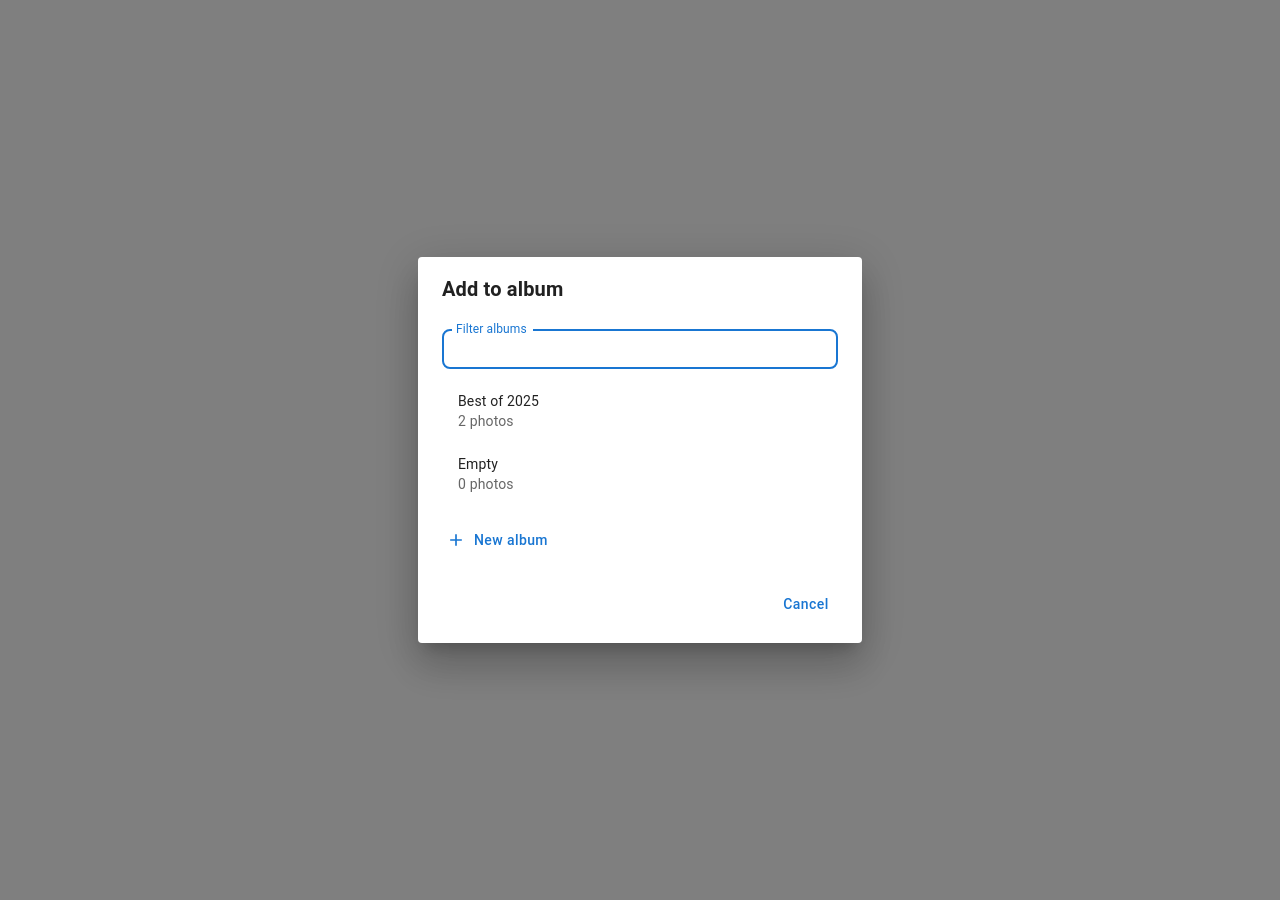
Test: AlbumPicker › creates an album and adds to it in one step
Click the button "New album".
click(499, 540)  # box [442,522,556,558]
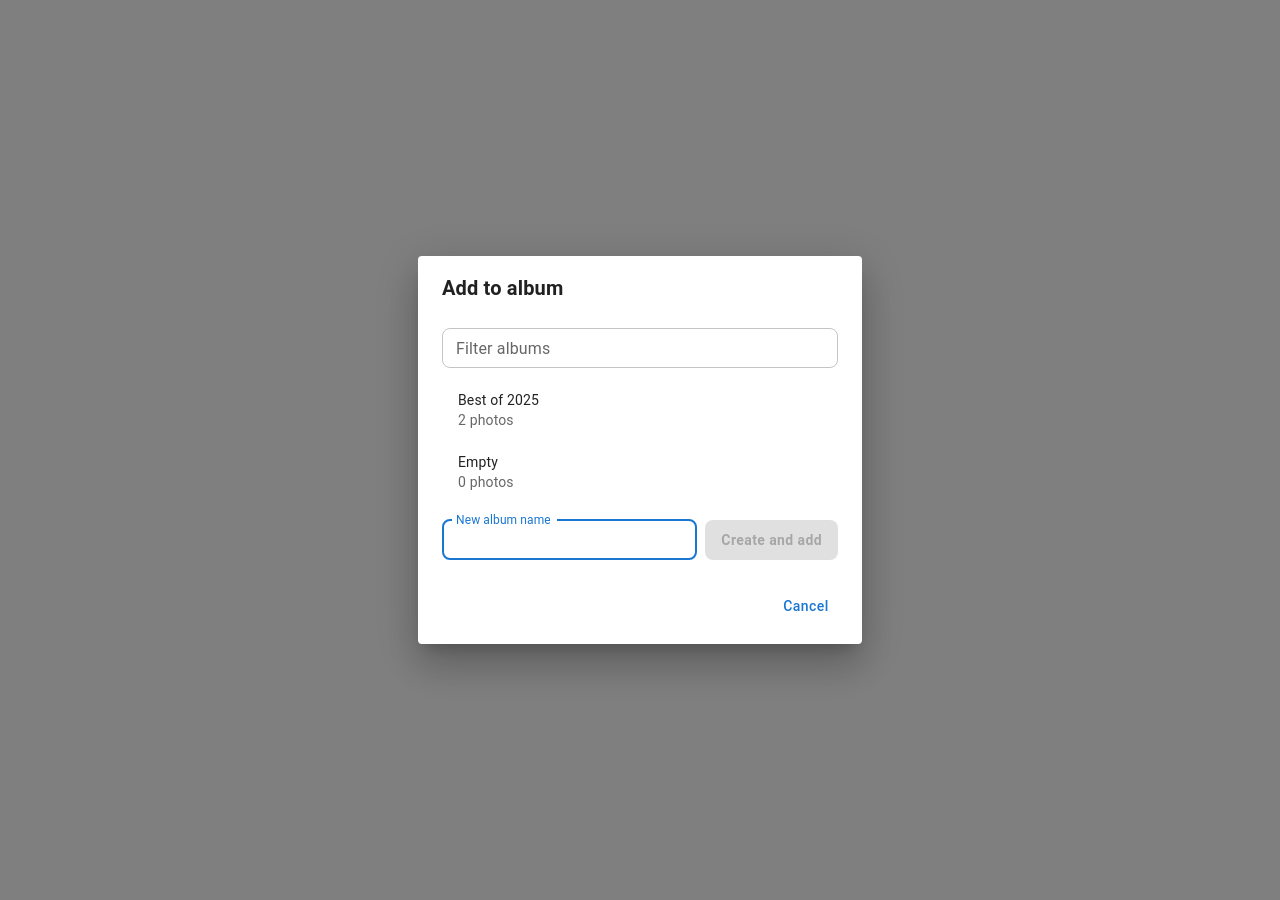
Type "Trip" into the field labelled "New album name".
click(570, 540); type("Trip")  # box [442,520,697,560]
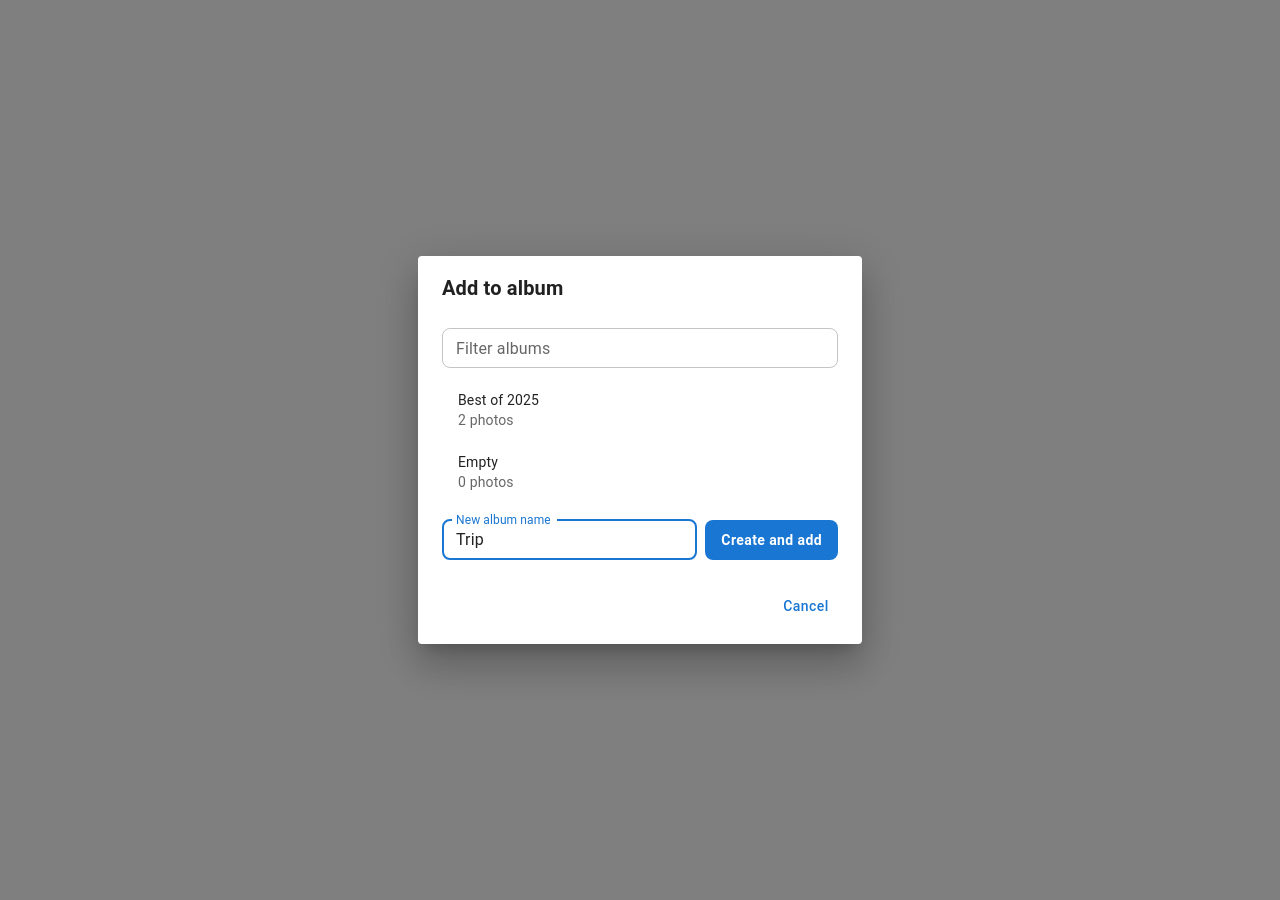
Click the button "Create and add".
click(772, 540)  # box [705,520,838,560]
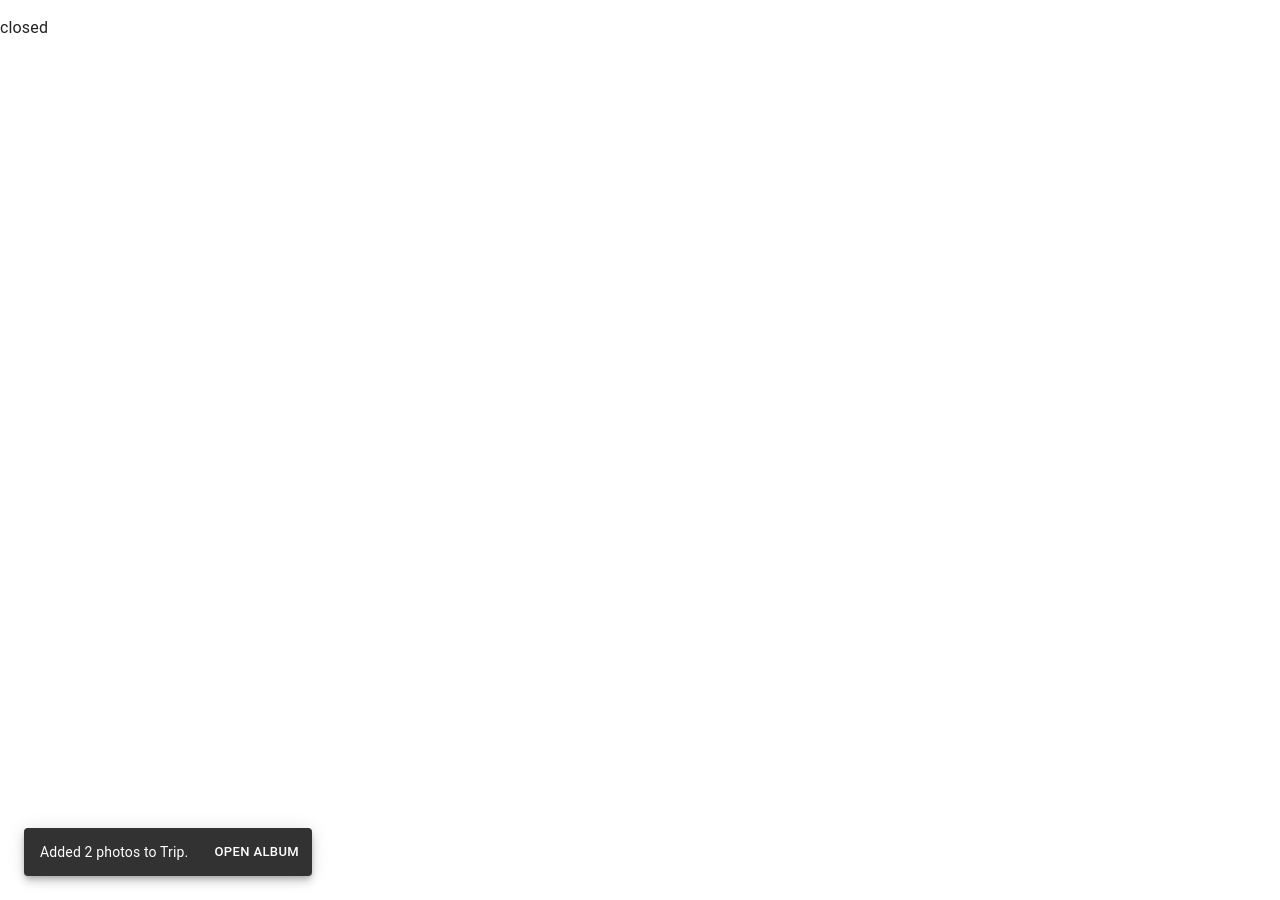
Expected: the text "Added 2 photos to Trip." is shown, [40,844,188,860]
